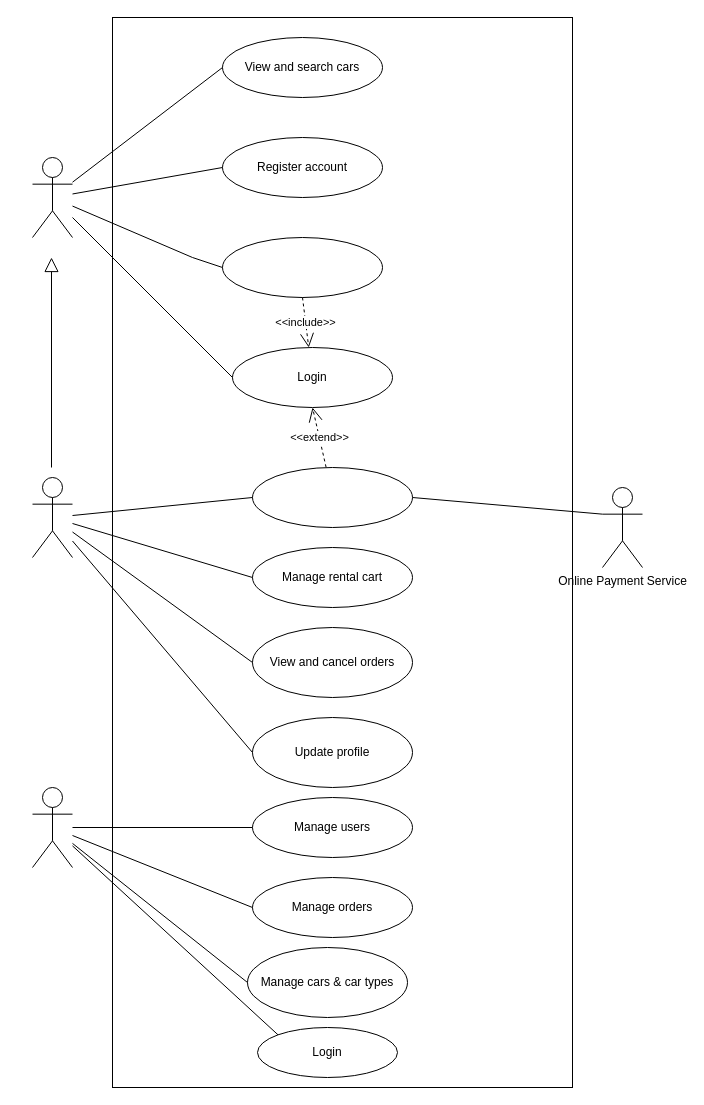
Image size: 704x1105. Some labels were removed from this diagram. Each missing label, with the box of its shape:
Administrator: (32, 786, 72, 868)
Customer: (32, 476, 72, 558)
Guest: (32, 156, 72, 238)
Rent a car: (252, 466, 412, 528)
Reset password: (222, 236, 382, 298)
